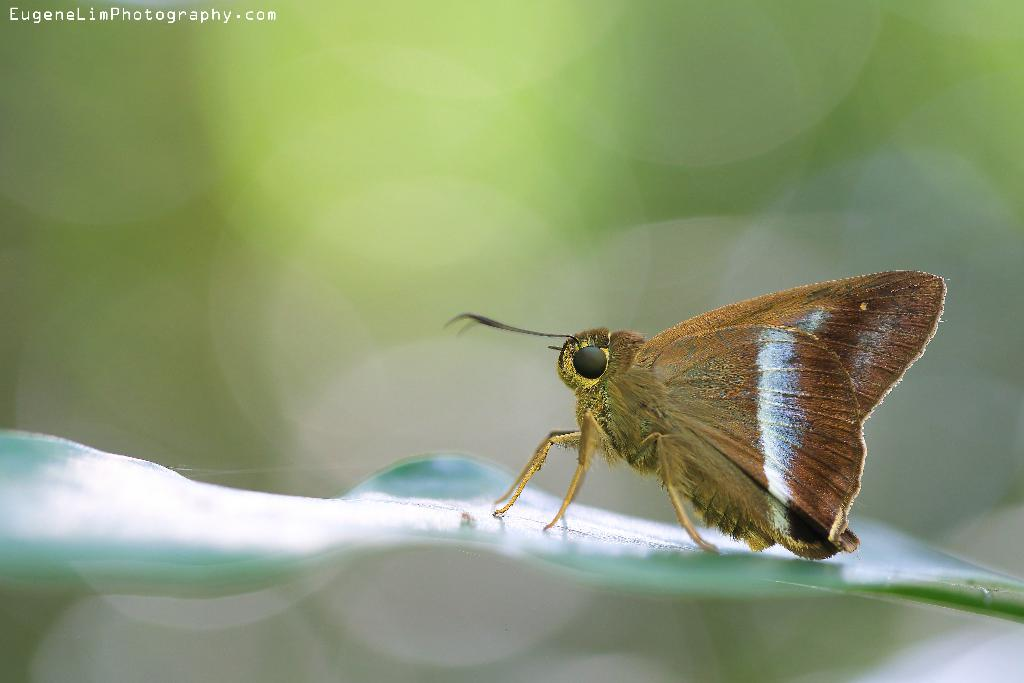Butterfly: (508, 256, 939, 580)
